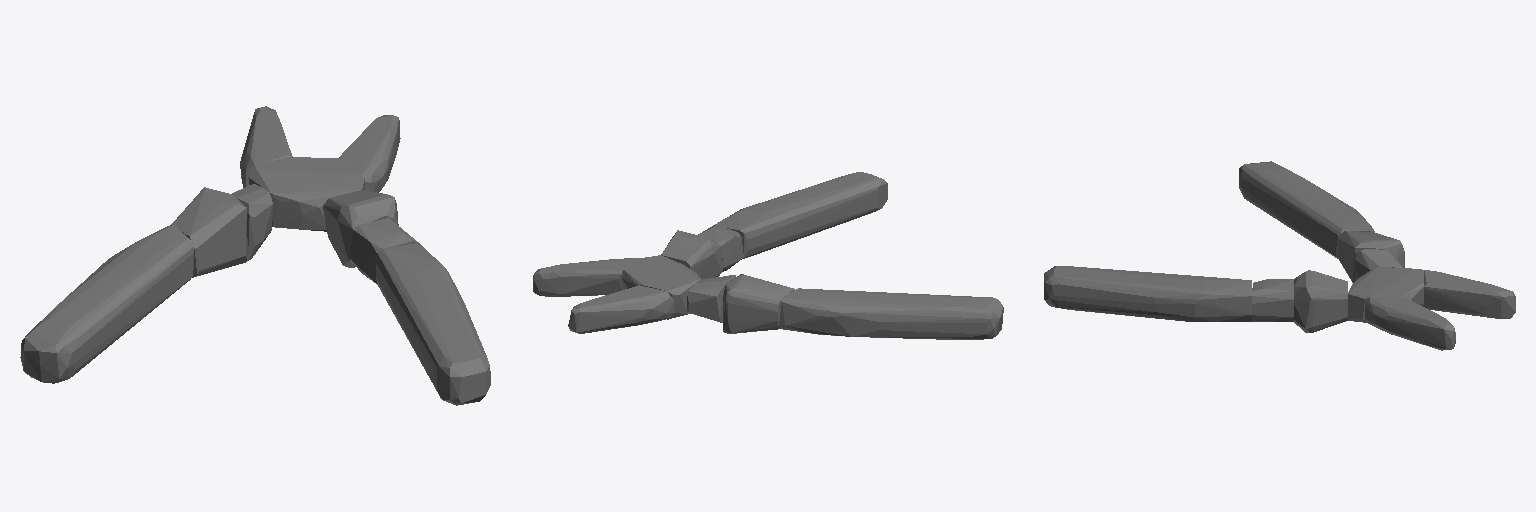
URDF robot description (pliers_012):
<?xml version="1.0" ?>
<robot name="pliers_012">
  <material name="color">
    <color rgba=".5 .5 .5 1"/>
  </material>

  <link name="base_link">
    <contact>
      <lateral_friction value="1.0"/>
      <rolling_friction value="0.001"/>
      <spinning_friction value="0.001"/>
      <inertia_scaling value="1.0"/>
    </contact>
    <inertial>
      <origin rpy="0 0 0" xyz="0.0130499 0.00884519 -0.000674917"/>
       <mass value="0.1"/>
       <inertia ixx="1" ixy="0" ixz="0" iyy="1" iyz="0" izz="1"/>
    </inertial>

    <visual>
      <origin rpy="0 0 0" xyz="0 0 0"/>
      <geometry>
        <mesh filename="pliers_012_vhacd_0_of_9.obj" scale="1 1 1"/>
      </geometry>
      <material name="color"/>
    </visual>
    <visual>
      <origin rpy="0 0 0" xyz="0 0 0"/>
      <geometry>
        <mesh filename="pliers_012_vhacd_1_of_9.obj" scale="1 1 1"/>
      </geometry>
      <material name="color"/>
    </visual>
    <visual>
      <origin rpy="0 0 0" xyz="0 0 0"/>
      <geometry>
        <mesh filename="pliers_012_vhacd_2_of_9.obj" scale="1 1 1"/>
      </geometry>
      <material name="color"/>
    </visual>
    <visual>
      <origin rpy="0 0 0" xyz="0 0 0"/>
      <geometry>
        <mesh filename="pliers_012_vhacd_3_of_9.obj" scale="1 1 1"/>
      </geometry>
      <material name="color"/>
    </visual>
    <visual>
      <origin rpy="0 0 0" xyz="0 0 0"/>
      <geometry>
        <mesh filename="pliers_012_vhacd_4_of_9.obj" scale="1 1 1"/>
      </geometry>
      <material name="color"/>
    </visual>
    <visual>
      <origin rpy="0 0 0" xyz="0 0 0"/>
      <geometry>
        <mesh filename="pliers_012_vhacd_5_of_9.obj" scale="1 1 1"/>
      </geometry>
      <material name="color"/>
    </visual>
    <visual>
      <origin rpy="0 0 0" xyz="0 0 0"/>
      <geometry>
        <mesh filename="pliers_012_vhacd_6_of_9.obj" scale="1 1 1"/>
      </geometry>
      <material name="color"/>
    </visual>
    <visual>
      <origin rpy="0 0 0" xyz="0 0 0"/>
      <geometry>
        <mesh filename="pliers_012_vhacd_7_of_9.obj" scale="1 1 1"/>
      </geometry>
      <material name="color"/>
    </visual>
    <visual>
      <origin rpy="0 0 0" xyz="0 0 0"/>
      <geometry>
        <mesh filename="pliers_012_vhacd_8_of_9.obj" scale="1 1 1"/>
      </geometry>
      <material name="color"/>
    </visual>

    <collision>
      <origin rpy="0 0 0" xyz="0 0 0"/>
      <geometry>
        <mesh filename="pliers_012_vhacd_0_of_9.obj" scale="1 1 1"/>
      </geometry>
    </collision>
    <collision>
      <origin rpy="0 0 0" xyz="0 0 0"/>
      <geometry>
        <mesh filename="pliers_012_vhacd_1_of_9.obj" scale="1 1 1"/>
      </geometry>
    </collision>
    <collision>
      <origin rpy="0 0 0" xyz="0 0 0"/>
      <geometry>
        <mesh filename="pliers_012_vhacd_2_of_9.obj" scale="1 1 1"/>
      </geometry>
    </collision>
    <collision>
      <origin rpy="0 0 0" xyz="0 0 0"/>
      <geometry>
        <mesh filename="pliers_012_vhacd_3_of_9.obj" scale="1 1 1"/>
      </geometry>
    </collision>
    <collision>
      <origin rpy="0 0 0" xyz="0 0 0"/>
      <geometry>
        <mesh filename="pliers_012_vhacd_4_of_9.obj" scale="1 1 1"/>
      </geometry>
    </collision>
    <collision>
      <origin rpy="0 0 0" xyz="0 0 0"/>
      <geometry>
        <mesh filename="pliers_012_vhacd_5_of_9.obj" scale="1 1 1"/>
      </geometry>
    </collision>
    <collision>
      <origin rpy="0 0 0" xyz="0 0 0"/>
      <geometry>
        <mesh filename="pliers_012_vhacd_6_of_9.obj" scale="1 1 1"/>
      </geometry>
    </collision>
    <collision>
      <origin rpy="0 0 0" xyz="0 0 0"/>
      <geometry>
        <mesh filename="pliers_012_vhacd_7_of_9.obj" scale="1 1 1"/>
      </geometry>
    </collision>
    <collision>
      <origin rpy="0 0 0" xyz="0 0 0"/>
      <geometry>
        <mesh filename="pliers_012_vhacd_8_of_9.obj" scale="1 1 1"/>
      </geometry>
    </collision>

  </link>
</robot>

--- Render facts (derived) ---
3 views of the same robot in one strip: view 1: azimuth 30°, elevation 25°; view 2: azimuth 150°, elevation 25°; view 3: azimuth 270°, elevation 25° (orthographic).
Model pliers_012 with 1 links and 0 joints (none), rooted at base_link, posed every joint at zero.
Links seen in each view (by area): view 1: base_link; view 2: base_link; view 3: base_link.
Boxes of the visible links, <box> form: base_link: <box>20,106,490,405</box>; base_link: <box>533,172,1003,339</box>; base_link: <box>1044,161,1515,350</box>.
Bounding box of the posed robot: 0.149 × 0.159 × 0.0191 m (x, y, z).
Meshes: 9 distinct files referenced, 9 mesh visuals loaded (9 OBJ).